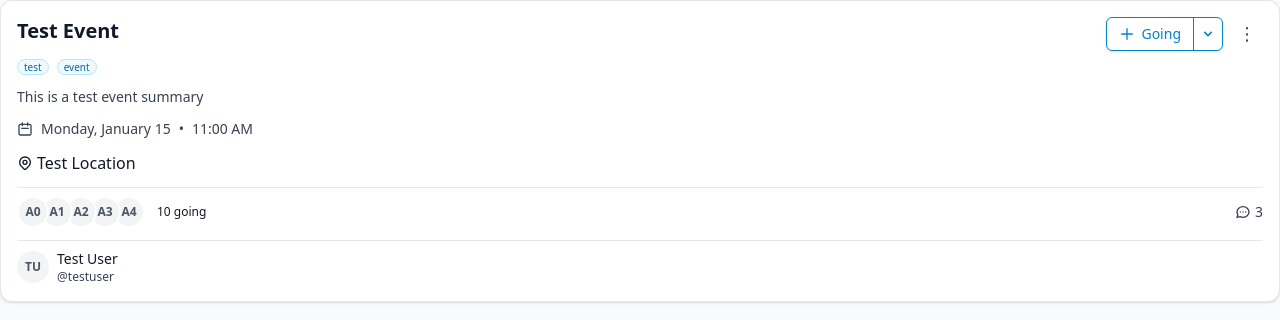
Test: EventCard Component › Interactions and Options › user can open options menu and see report option
Check: the button "Going" is shown, box 1108,18 -> 1193,50
# Use text content selector as accessible name might be calculating differently in test env
Step 1. Click the text "⋮" → (1247, 32), box 1238,20 -> 1256,44
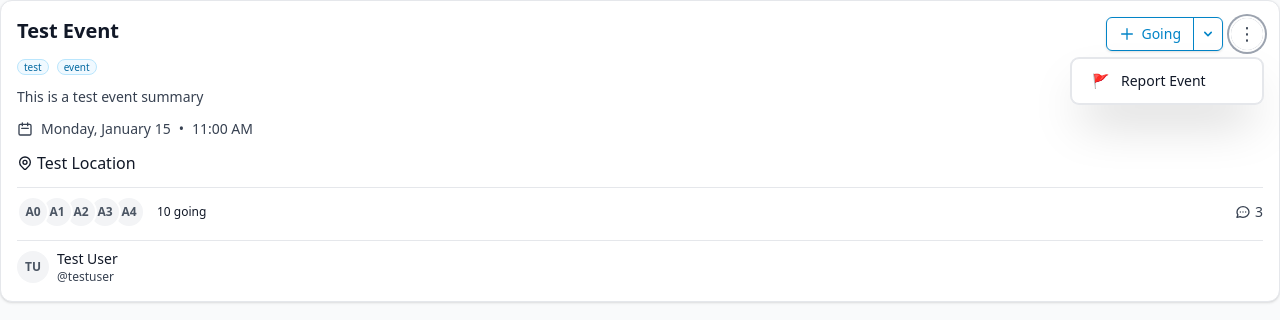
Check: the button "🚩 Report Event" is shown, box 1076,63 -> 1258,99
